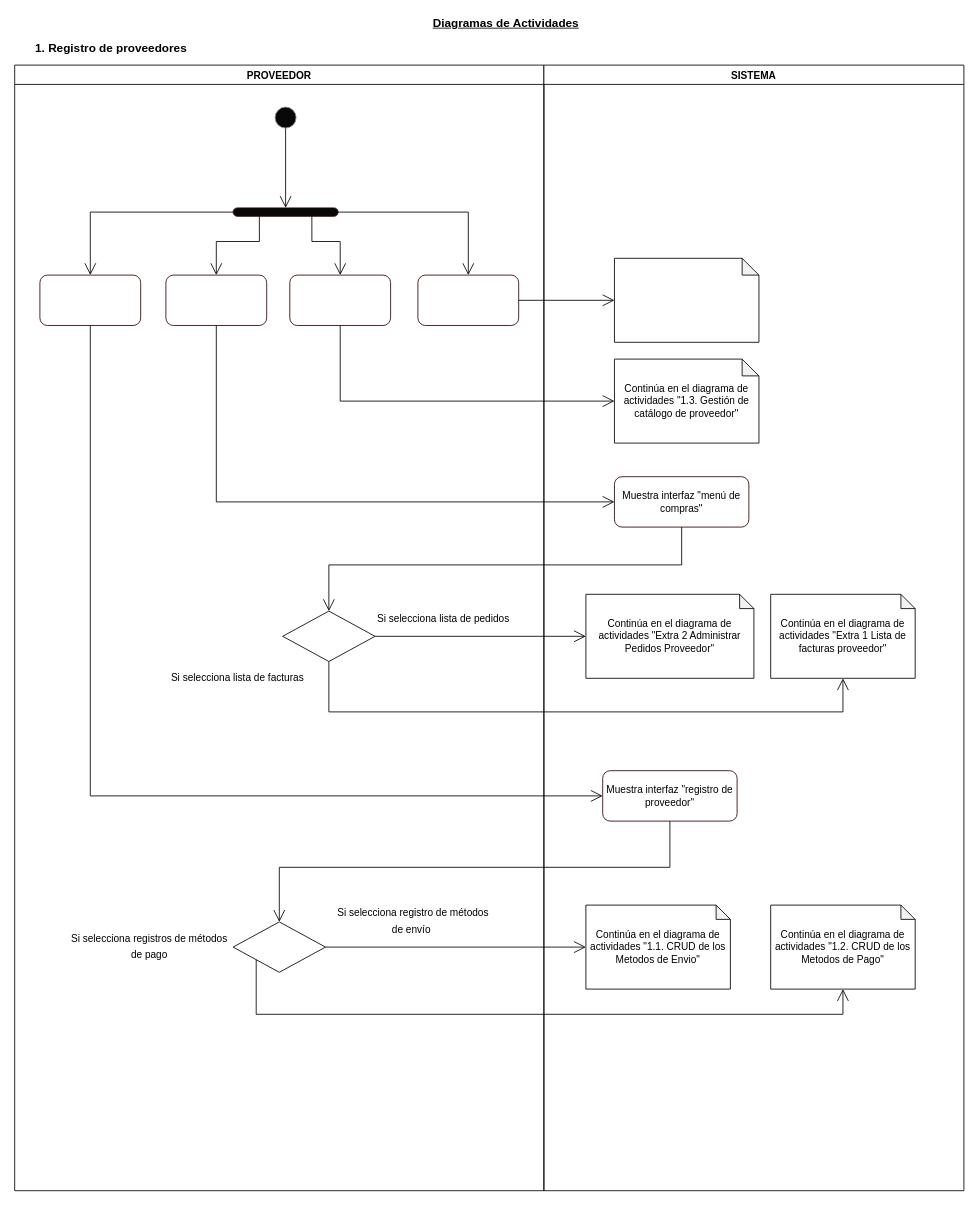
Some shapes in this 979 by 1205 pixel diagram are drawn without their labels. Each missing label, with the centre of its shape:
Continúa en el diagrama de actividades "Extra 3 Lista de contratos Proveedor": point 686,299
Selecciona catálogo de ingredientes: point 340,300
Selecciona lista de contratos: point 468,300
Selecciona menú de compras: point 216,300
Selecciona registro de proveedor: point 90,300
